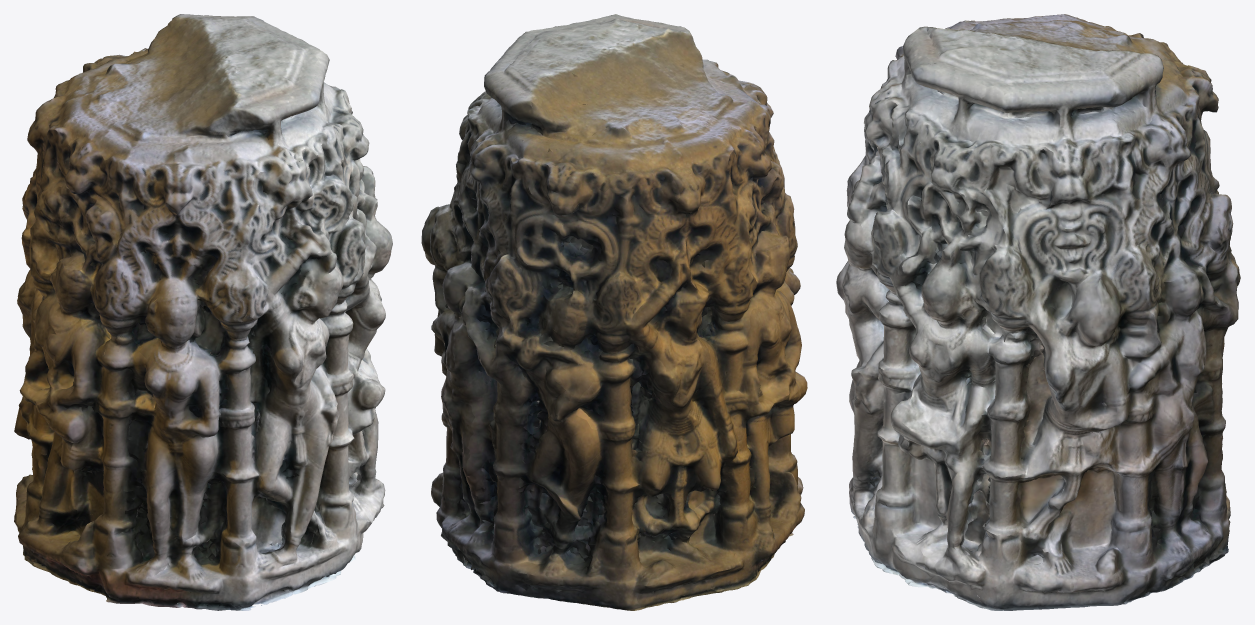
File: column.glb
3 renders of one model, left to right at view 1: azimuth 30°, elevation 25°; view 2: azimuth 150°, elevation 25°; view 3: azimuth 270°, elevation 25°, orthographic. The views are drawn at different scales.
Visible parts, largest first — view 1: Object_3; view 2: Object_3; view 3: Object_3.
Part boxes in pixels (bbox=[...]): Object_3: bbox=[14, 14, 392, 610]; Object_3: bbox=[421, 14, 807, 610]; Object_3: bbox=[836, 14, 1240, 610].
Bounding box in the file's own units: 5.93 × 8.08 × 5.81.
2 materials, 2 textured.
